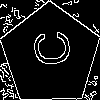C: (25, 30, 70, 67)
